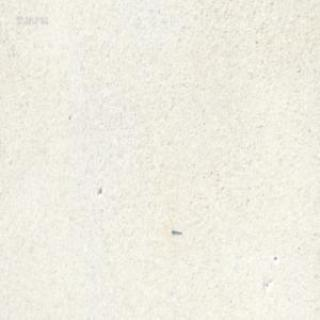Nailtrack_idkeyframe: (170, 225, 181, 234)
